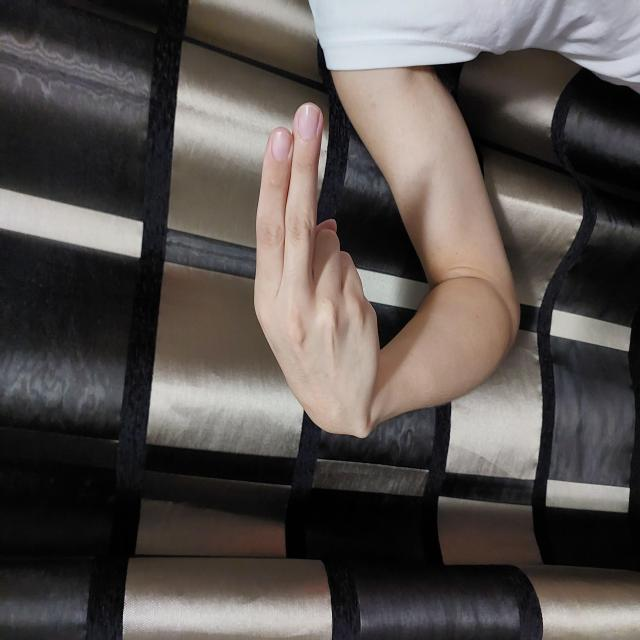H: (198, 250, 540, 383)
